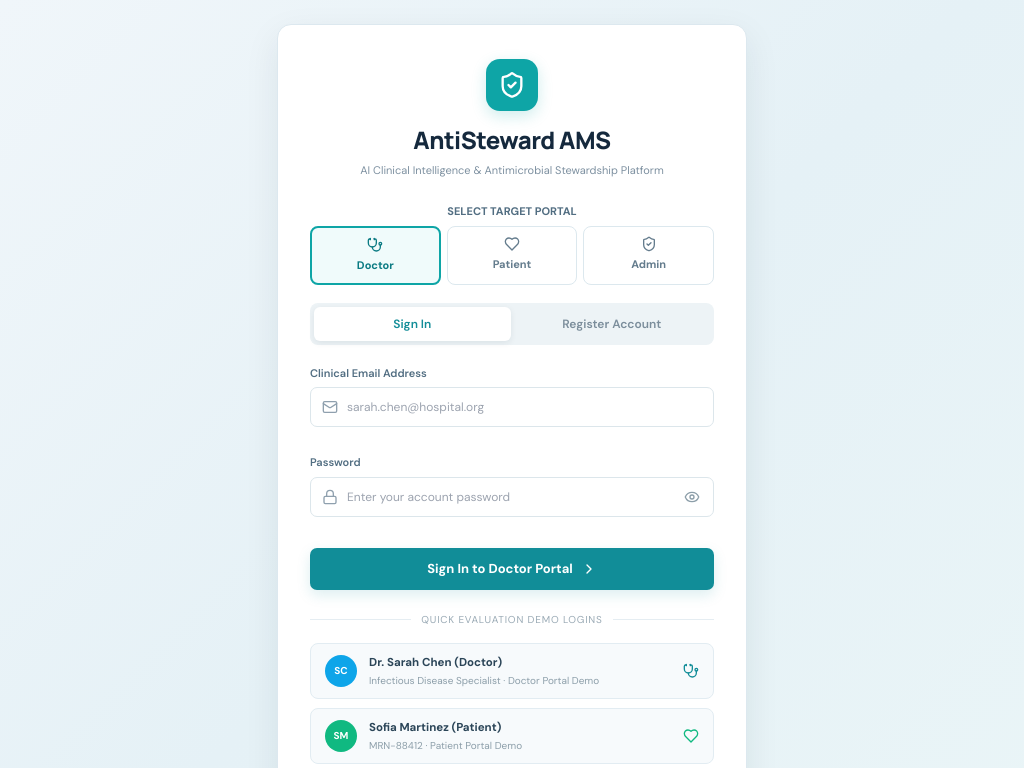
Test: Frontend Component: AuthScreen & Role Selection › switches between Sign In and Register tabs
The width and height of the screenshot is (1024, 768).
Click the button "Register Account".
click(612, 324)  # box [514, 306, 710, 340]
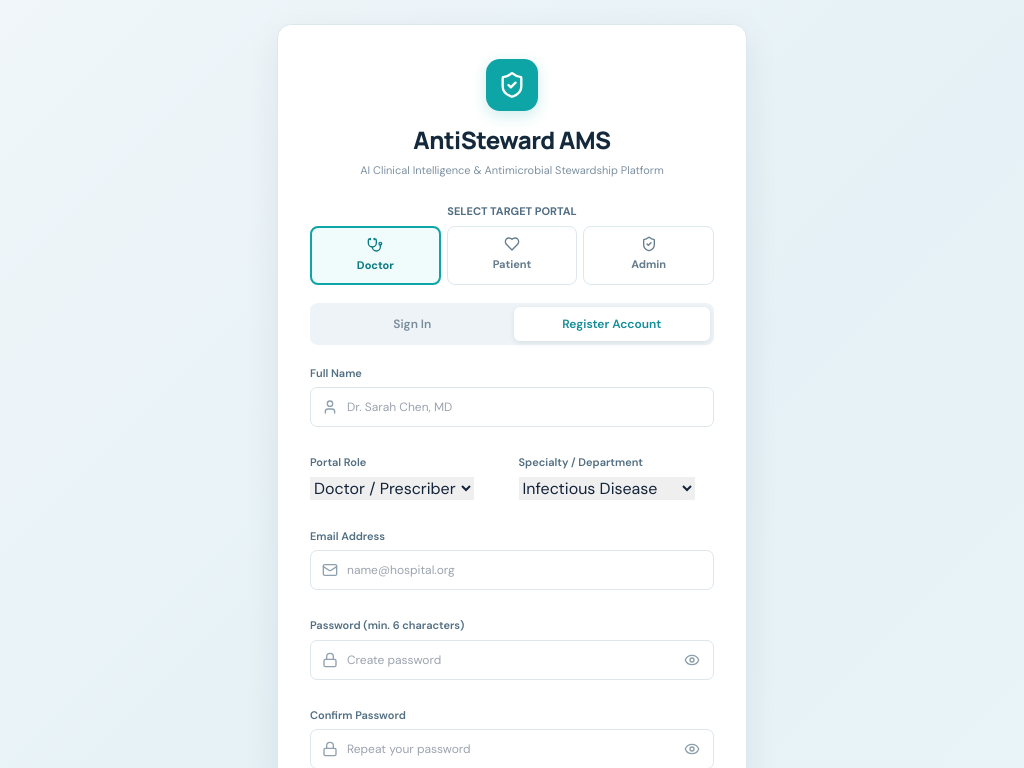
expect the text "Full Name" is shown: met, box [310, 366, 362, 380]
expect the text "Portal Role" is shown: met, box [310, 455, 366, 469]
